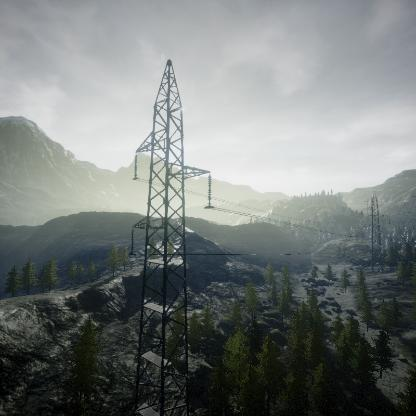tower: (125, 56, 216, 416), (360, 193, 393, 274)
